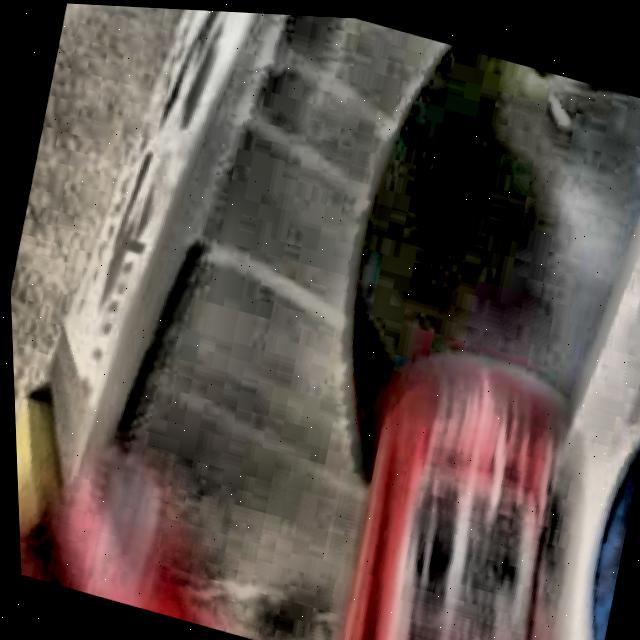metal: (336, 358, 558, 640)
